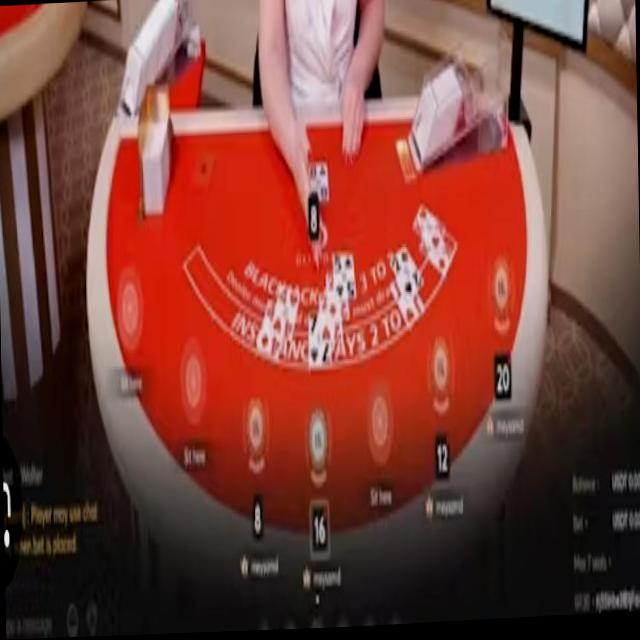Card-2: (389, 248, 423, 305), (319, 292, 341, 342), (325, 277, 349, 322)
Card-4: (256, 298, 282, 364), (272, 286, 298, 344)
Card-5: (333, 255, 356, 301)
Card-7: (307, 311, 331, 370)
Card-8: (310, 159, 328, 200)
Card-J: (390, 282, 424, 332)
Card-K: (422, 236, 456, 279), (413, 204, 444, 250)
